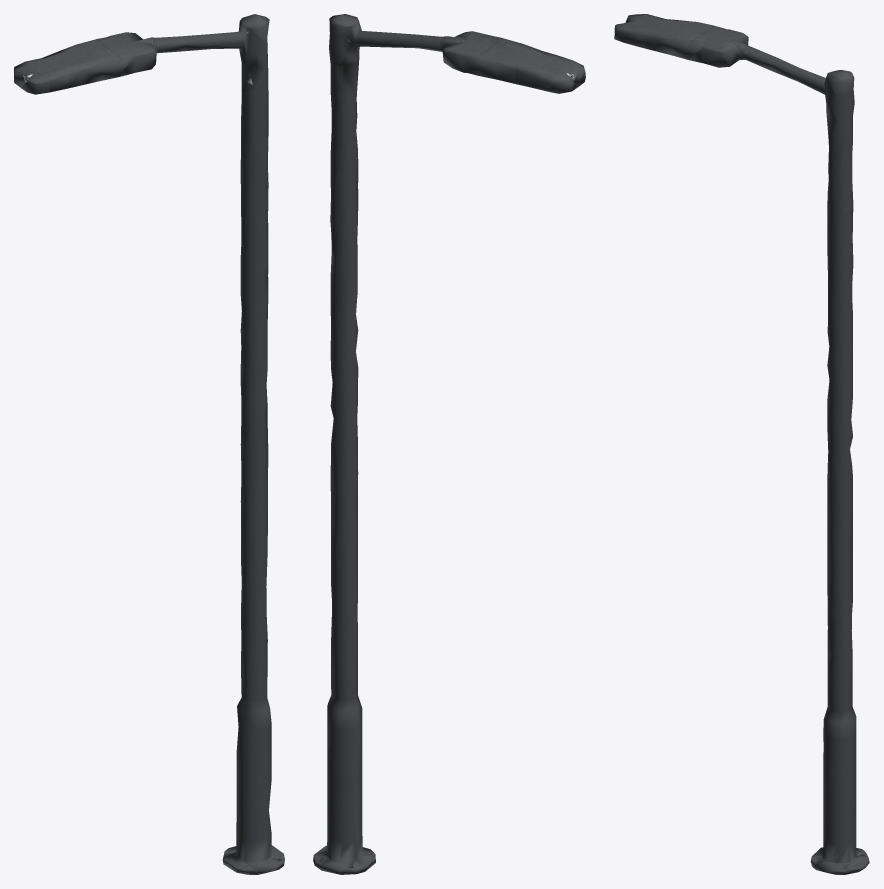
File: lamppost_lod1.glb
3 views of the same model, side by side, from view 1: azimuth 30°, elevation 25°; view 2: azimuth 150°, elevation 25°; view 3: azimuth 330°, elevation 25° (orthographic). The views are drawn at different scales.
Visible parts, largest first — view 1: mesh_node; view 2: mesh_node; view 3: mesh_node.
Part boxes in pixels (bbox=[...]): mesh_node: bbox=[14, 14, 284, 874]; mesh_node: bbox=[313, 14, 585, 874]; mesh_node: bbox=[614, 14, 869, 874].
Size of the model in its own units: 0.6113 by 1.9 by 0.1246.
1 material, 1 textured.
